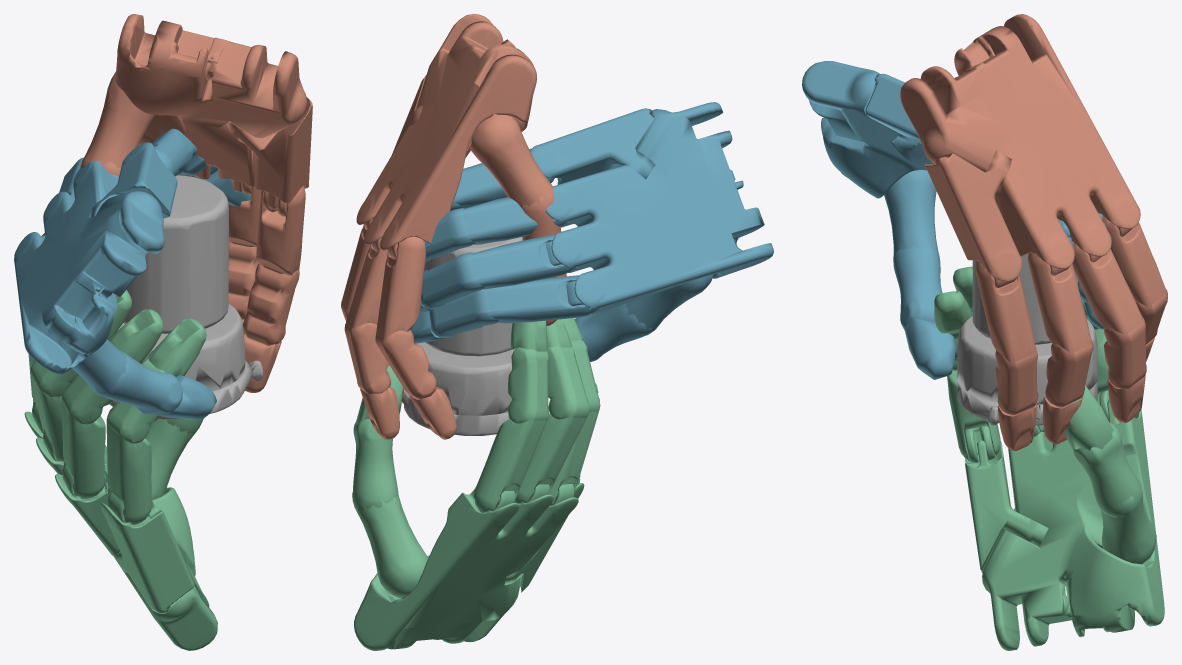
The picture shows the model from 3 angles, left to right: view 1: azimuth 30°, elevation 25°; view 2: azimuth 150°, elevation 25°; view 3: azimuth 270°, elevation 25°; orthographic projection. The views are drawn at different scales.
Size of the model in its own units: 0.1798 by 0.3148 by 0.1714.
